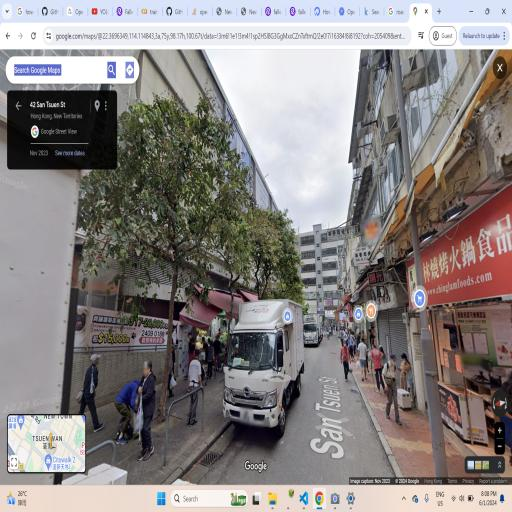Roads: (281, 336, 396, 476)
Trees: (93, 99, 247, 441)
